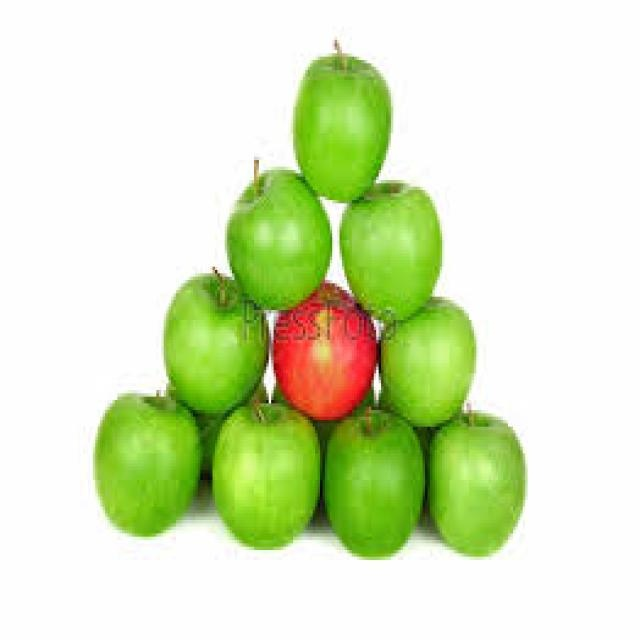agrume: (399, 366, 528, 559), (318, 137, 447, 329), (196, 360, 323, 547), (361, 249, 479, 434), (300, 387, 424, 559), (100, 352, 216, 531), (281, 38, 401, 210), (212, 148, 336, 308), (154, 250, 277, 405), (271, 262, 371, 424)
